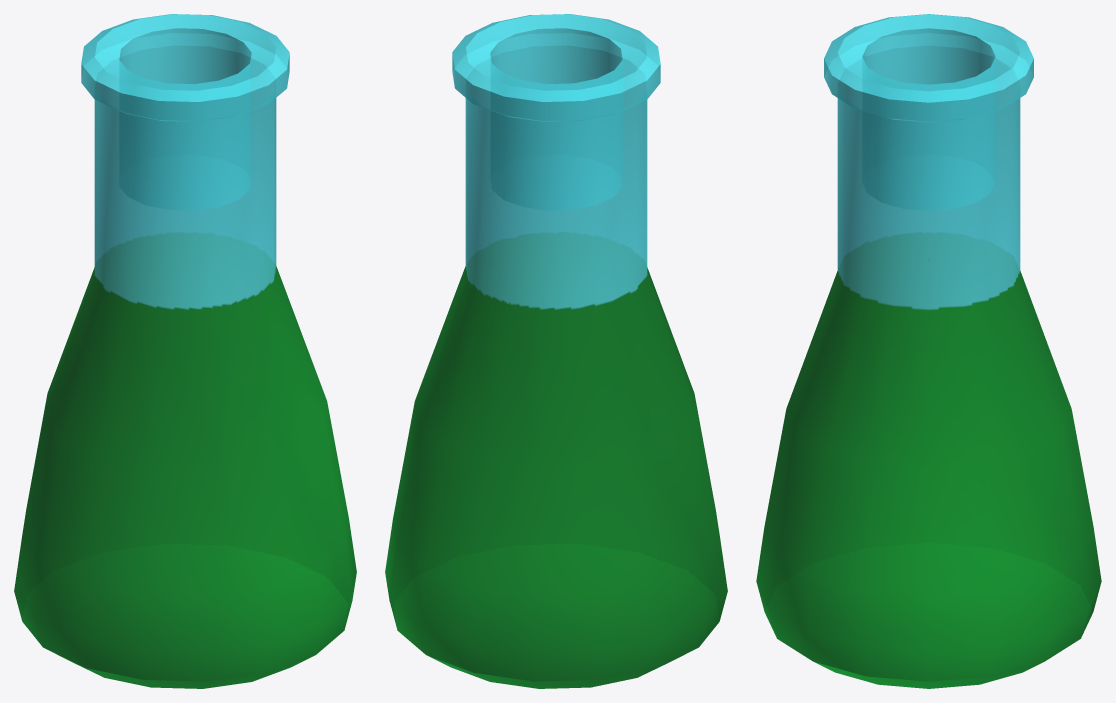
Rendered from Porçao Energia.fbx.
3 views of the same model, side by side, from view 1: azimuth 30°, elevation 25°; view 2: azimuth 150°, elevation 25°; view 3: azimuth 270°, elevation 25° (orthographic).
Visible parts, largest first — view 1: Porção de BUFF; view 2: Porção de BUFF; view 3: Porção de BUFF.
Boxes of the visible parts, <box> form: Porção de BUFF: <box>14,14,356,688</box>; Porção de BUFF: <box>385,14,727,688</box>; Porção de BUFF: <box>756,14,1101,688</box>.
Size of the model in its own units: 104 by 198 by 104.
1 material, 1 textured.
